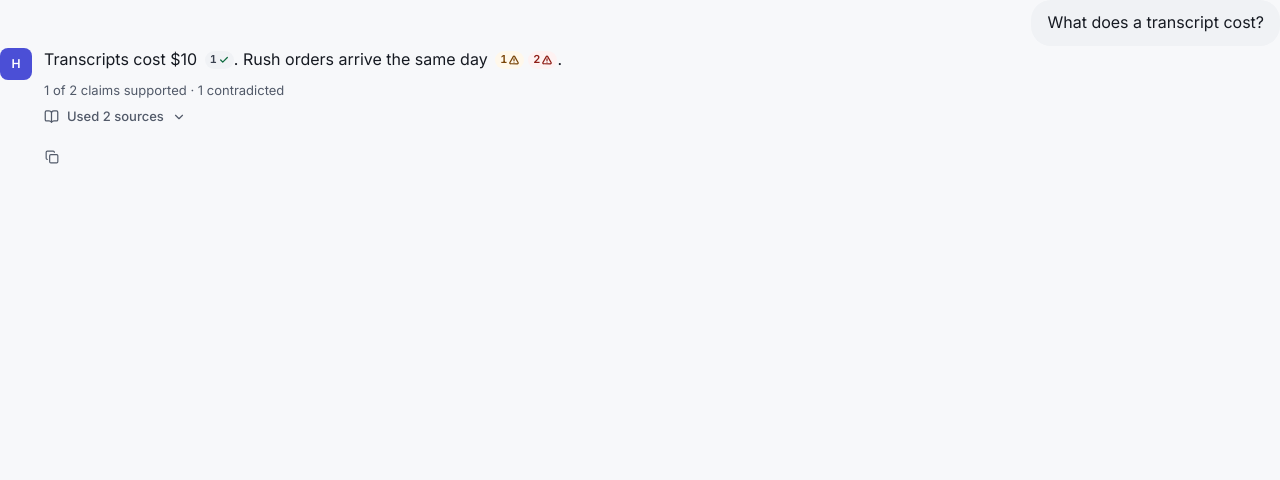
Scenario: source viewer › opens Try it's passages through the team's documents, around the cited passage
Click the button "Used 2 sources".
click(115, 117)  # box [36, 101, 194, 133]
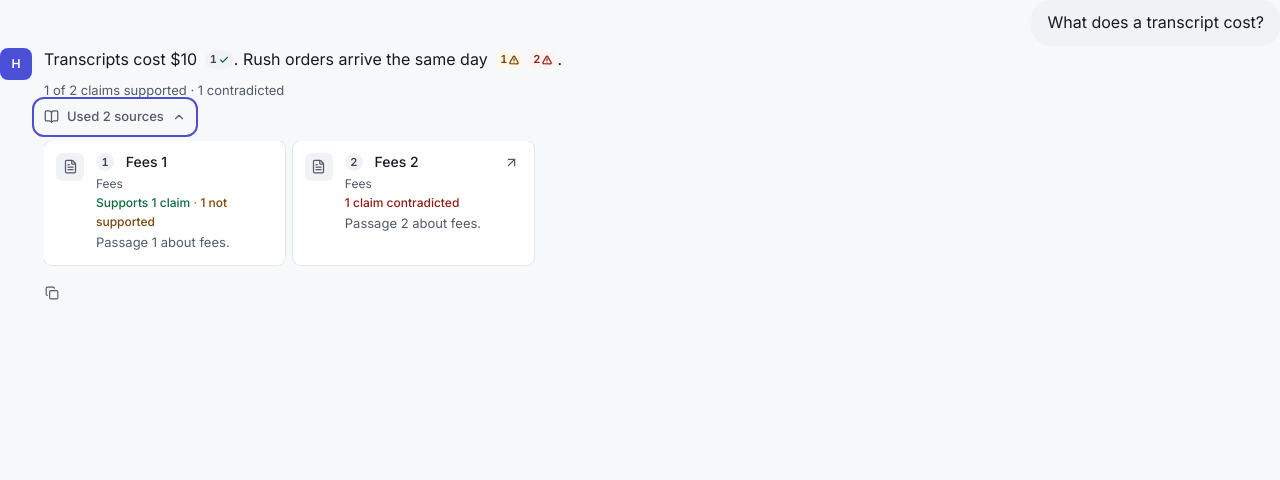
Click the button named "Show source 1: Fees 1".
click(164, 203)  # box [44, 141, 285, 265]
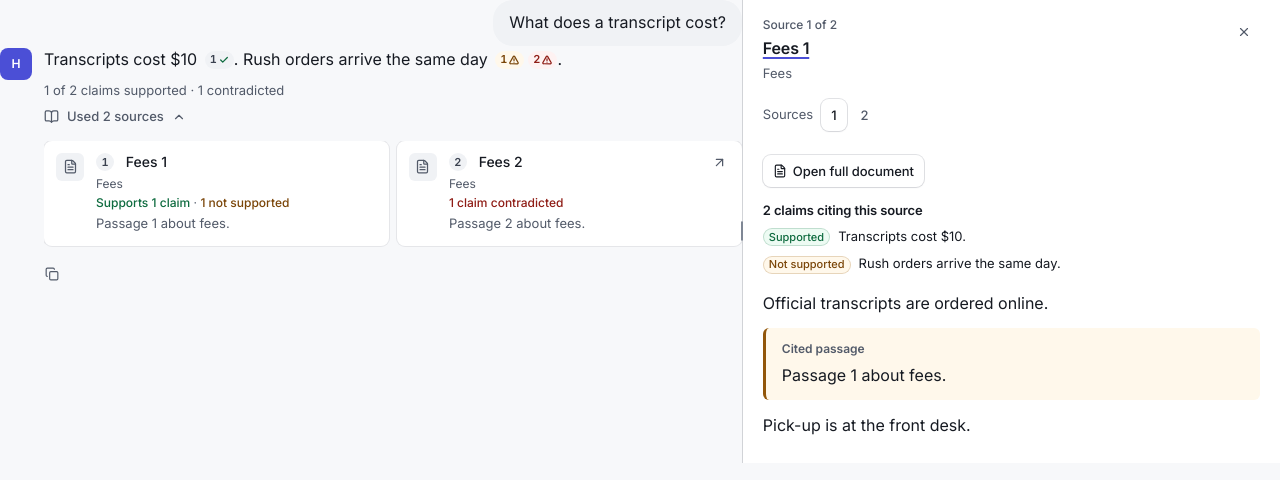
Check: the element with test id "cited-passage" shows "Passage 1 about fees.", box [782, 365, 946, 385]
Check: the button "Open full document" is shown, box [763, 155, 924, 187]
Click the button named "Source 2: Fees 2".
click(864, 115)  # box [850, 99, 878, 131]
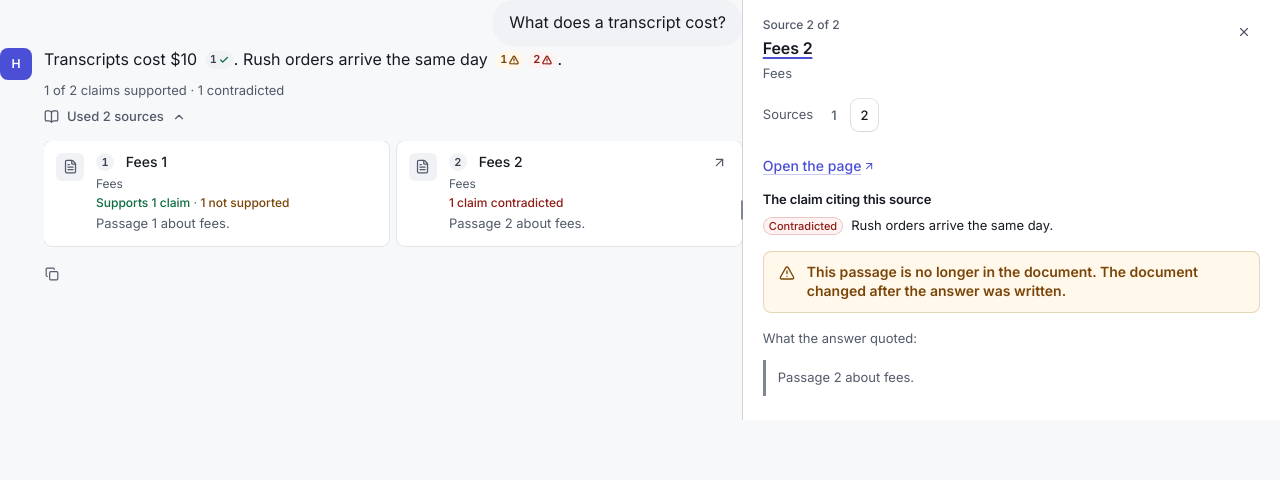
Check: the text "This passage is no longer in the document" is shown, box [807, 263, 1198, 299]
